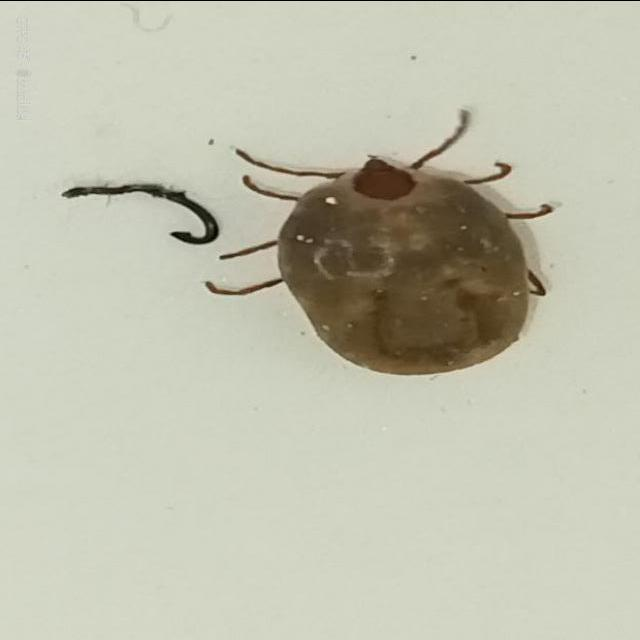Rhipicephalus Sanguineus-F-Fed: (201, 111, 556, 376)
